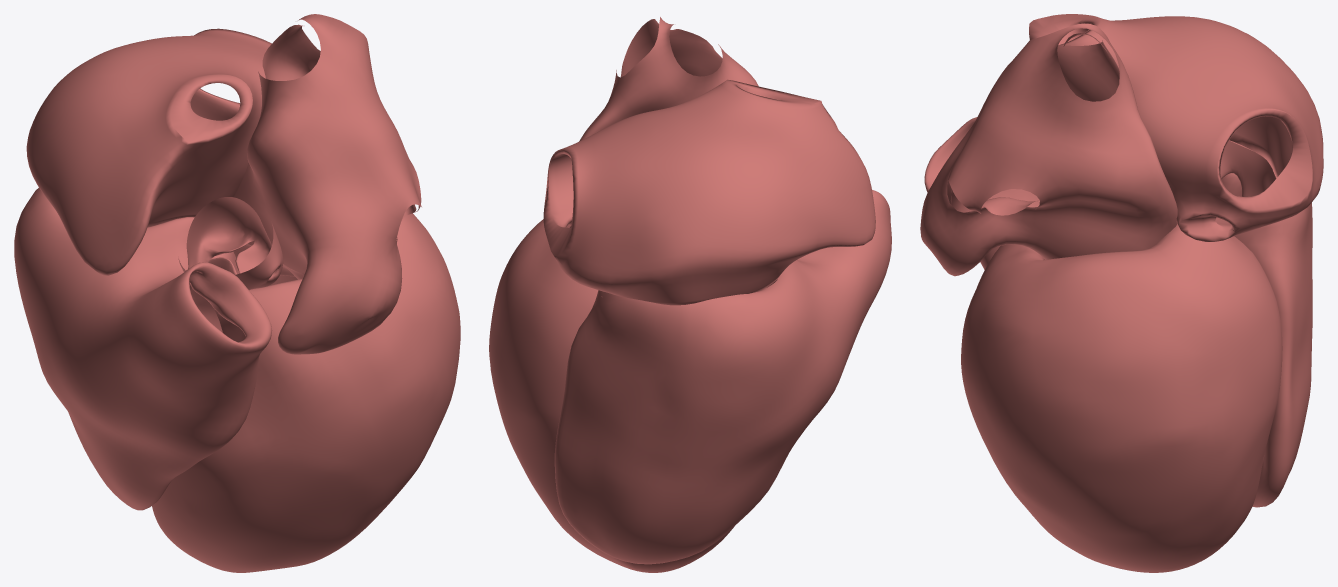
The model's file is heart.glb.
3 renders of one model, left to right at view 1: azimuth 30°, elevation 25°; view 2: azimuth 150°, elevation 25°; view 3: azimuth 270°, elevation 25°, orthographic. The views are drawn at different scales.
Parts seen in each view (by area): view 1: VH_F_left_ventricle, VH_F_right_ventricle, VH_F_left_cardiac_atrium, VH_F_right_cardiac_atrium, VH_F_aortic_valve; view 2: VH_F_right_ventricle, VH_F_right_cardiac_atrium, VH_F_left_ventricle, VH_F_left_cardiac_atrium; view 3: VH_F_left_ventricle, VH_F_left_cardiac_atrium, VH_F_right_cardiac_atrium, VH_F_right_ventricle, VH_F_tricuspid_valve.
Boxes of the visible parts, <box> form: VH_F_left_ventricle: <box>152,213,460,572</box>; VH_F_right_ventricle: <box>14,188,272,510</box>; VH_F_left_cardiac_atrium: <box>233,14,421,354</box>; VH_F_right_cardiac_atrium: <box>26,28,271,275</box>; VH_F_aortic_valve: <box>178,197,283,289</box>; VH_F_right_ventricle: <box>554,190,891,564</box>; VH_F_right_cardiac_atrium: <box>543,79,875,305</box>; VH_F_left_ventricle: <box>489,219,734,572</box>; VH_F_left_cardiac_atrium: <box>579,17,758,141</box>; VH_F_left_ventricle: <box>961,224,1282,572</box>; VH_F_left_cardiac_atrium: <box>920,23,1177,276</box>; VH_F_right_cardiac_atrium: <box>1029,14,1323,241</box>; VH_F_right_ventricle: <box>924,117,1312,507</box>; VH_F_tricuspid_valve: <box>1220,140,1276,196</box>.
Size of the model in its own units: 1.45 by 2.11 by 1.41.
